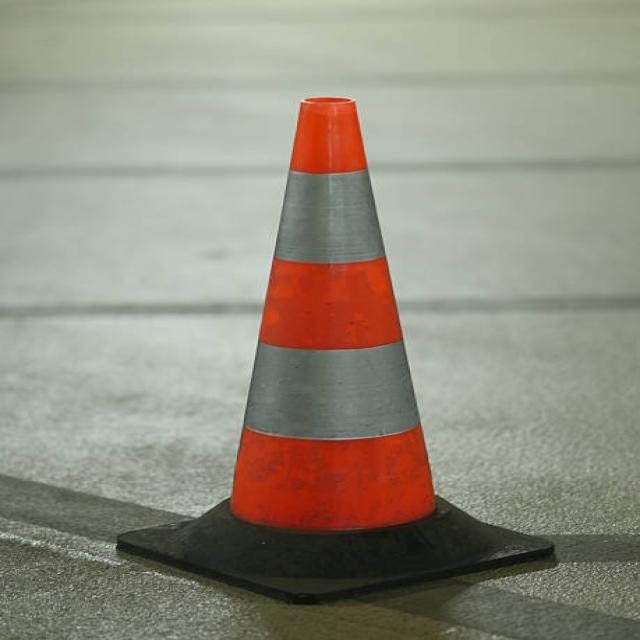Traffic Cone: (97, 45, 578, 616)
